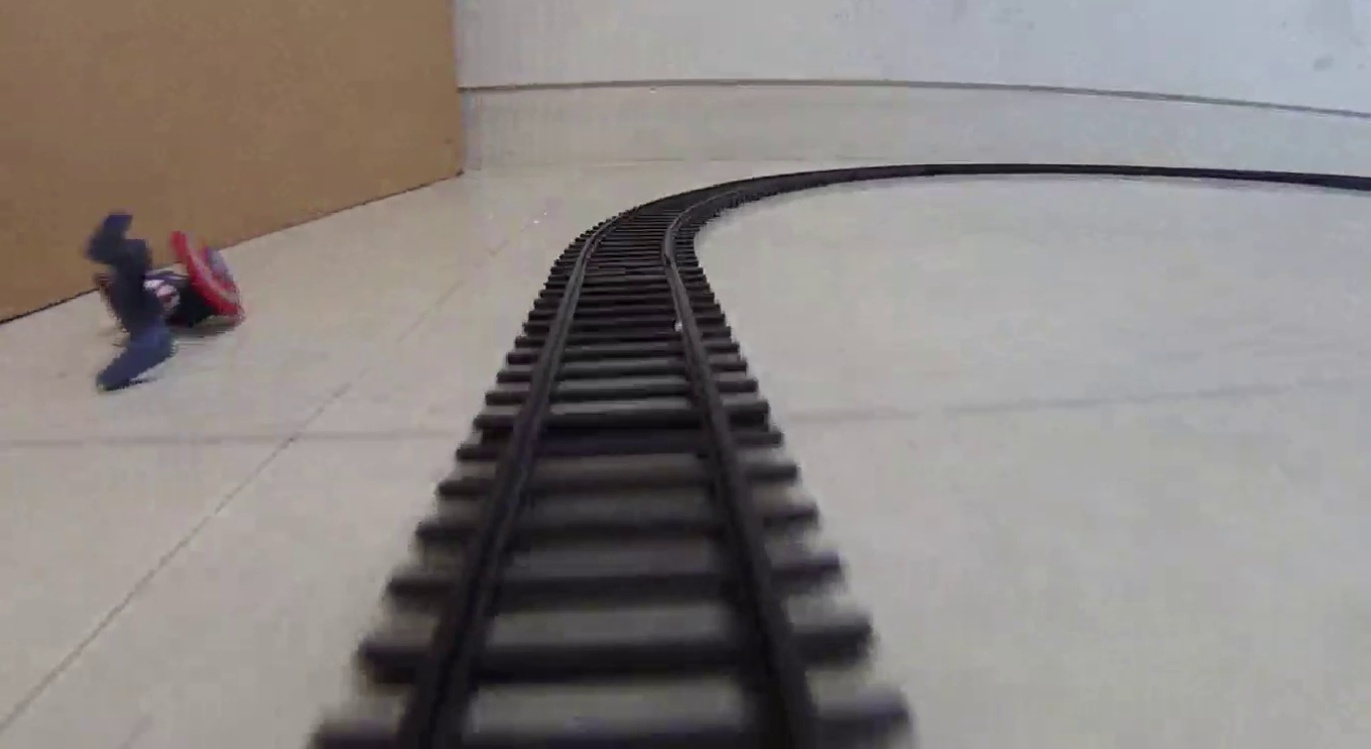people: (85, 212, 244, 396)
